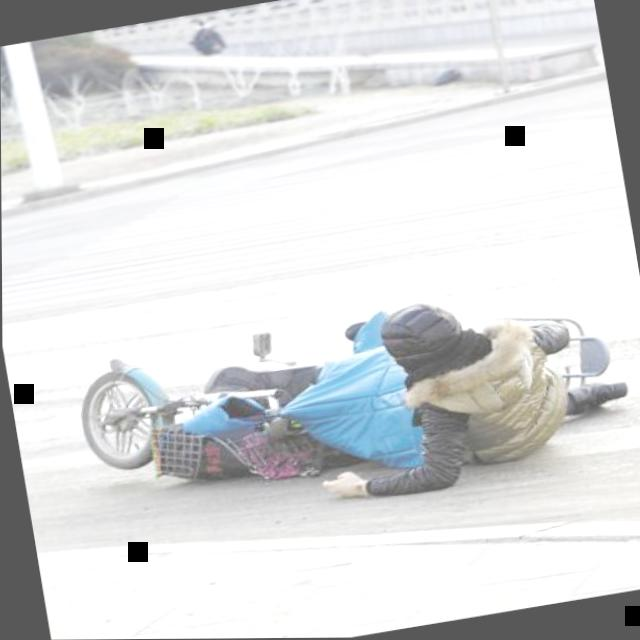Fall-Detected: (293, 258, 640, 516)
